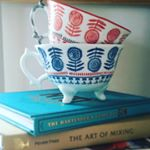cups: (18, 42, 126, 105), (26, 1, 132, 47)
